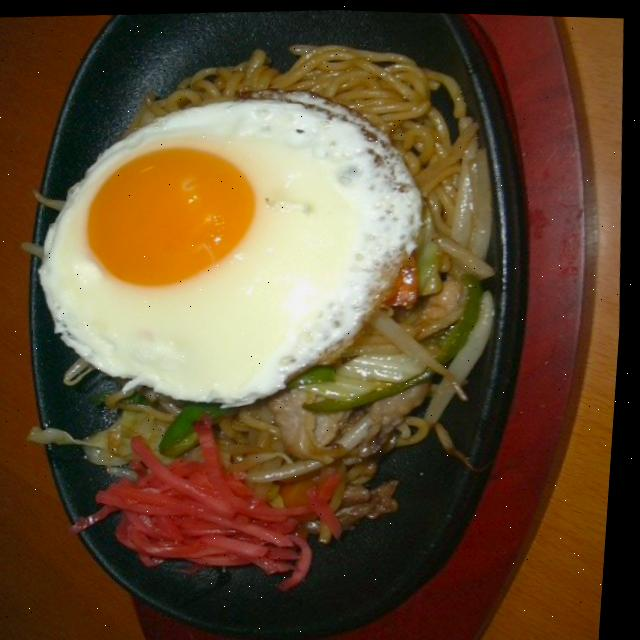鸡蛋料理: (18, 86, 417, 404)
